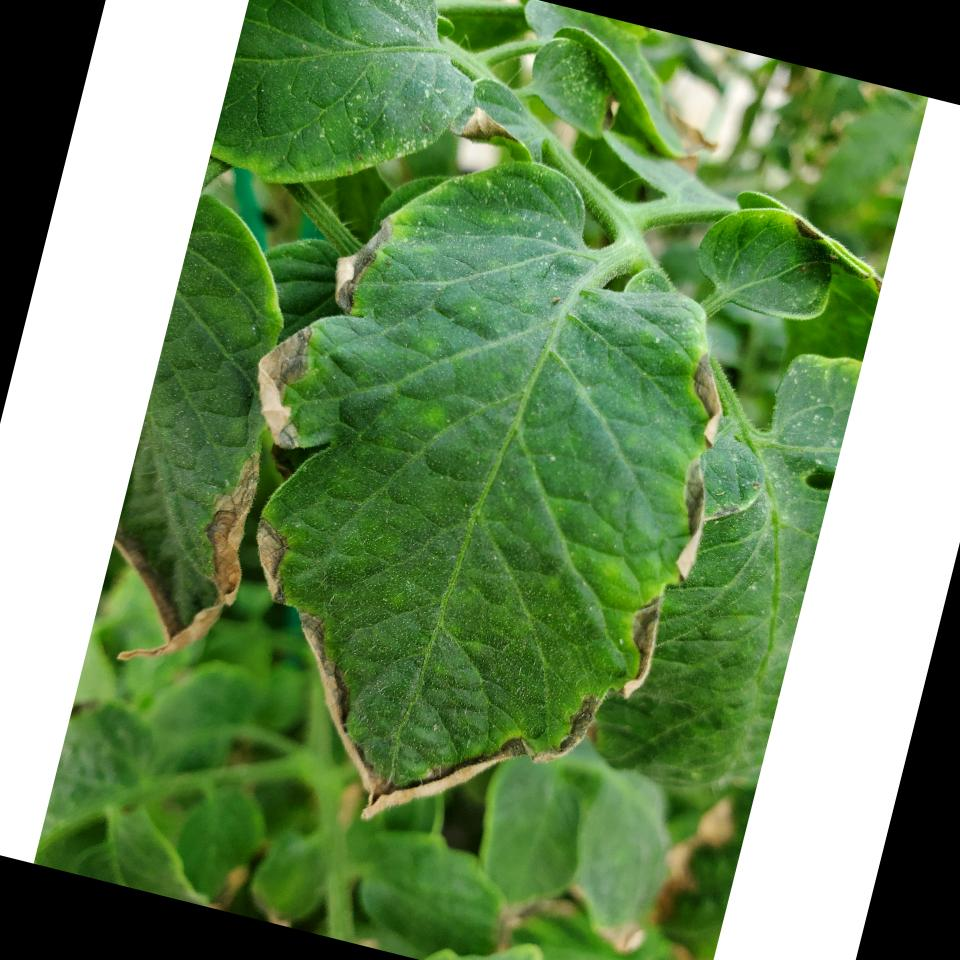tomato_bacterial_blight: (144, 115, 776, 882)
